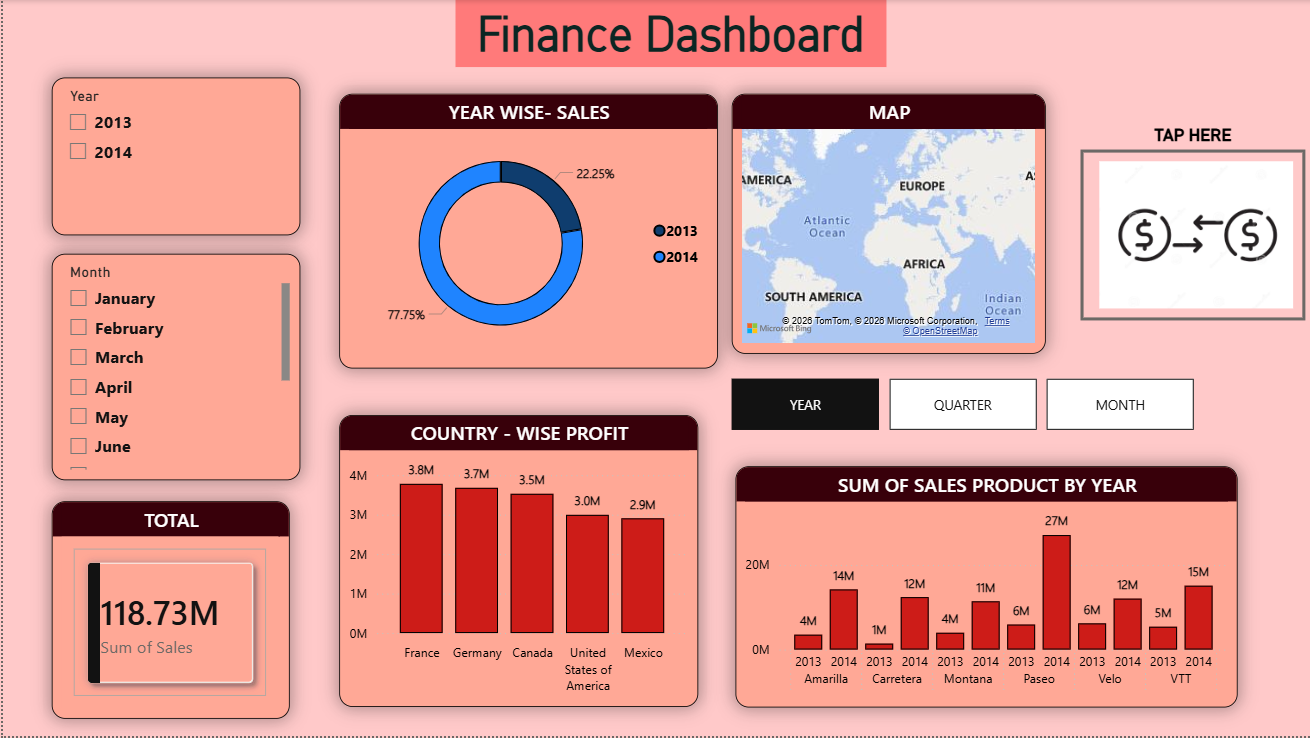

Layout of this report page (visuals, bound fields, positions):
{"tool":"powerbi","page":{"name":"Finance_dashboard","canvas":[1280,720],"ordinal":0},"visuals":[{"type":"textbox","box":[442.9,0,421.4,65.7],"z":0},{"type":"slicer","title":"COUNTRY - WISE PROFIT","fields":{"Values":["financials.Date.Variation.Date Hierarchy.Year"]},"box":[47.1,75.7,242.9,154.3],"z":1000},{"type":"slicer","title":"COUNTRY - WISE PROFIT","fields":{"Values":["financials.Date.Variation.Date Hierarchy.Month"]},"box":[47.1,248.6,242.9,221.4],"z":2000},{"type":"cardVisual","title":"TOTAL","fields":{"Data":["Sum(financials. Sales)"]},"box":[47.1,490,232.9,212.9],"z":3000},{"type":"clusteredColumnChart","title":"COUNTRY - WISE PROFIT","fields":{"Category":["financials.Country"],"Y":["Sum(financials.Profit)"]},"box":[328.6,405.7,351.4,285.7],"z":4000},{"type":"donutChart","title":"YEAR WISE- SALES","fields":{"Category":["financials.Date.Variation.Date Hierarchy.Year"],"Y":["Sum(financials. Sales)"]},"box":[328.6,91.4,370,268.6],"z":5000},{"type":"map","title":"MAP","fields":{"Size":["Sum(financials. Sales)"]},"box":[712.9,91.4,307.1,254.3],"z":6000},{"type":"clusteredColumnChart","title":"SUM OF SALES PRODUCT BY YEAR","fields":{"Y":["Sum(financials. Sales)"],"Category":["financials.Product","financials.Date.Variation.Date Hierarchy.Year"]},"box":[717.1,455.7,491.4,235.7],"z":7000},{"type":"bookmarkNavigator","box":[712.9,370,452.9,50],"z":10000},{"type":"actionButton","title":"TAP HERE ","box":[1054.3,122.9,220,191.4],"z":11000},{"type":"image","box":[1054.1,157.7,226.2,144.3],"z":12000}]}

Visuals, with their boxes in screenshot pixels (x1, y1, x2, y2), scaled from the page's 1280x720 canvas onto the 1310x738 screenshot:
textbox: bbox(453, 0, 885, 67)
"COUNTRY - WISE PROFIT" slicer: bbox(48, 78, 297, 236)
"COUNTRY - WISE PROFIT" slicer: bbox(48, 255, 297, 482)
"TOTAL" cardVisual: bbox(48, 502, 287, 720)
"COUNTRY - WISE PROFIT" clusteredColumnChart: bbox(336, 416, 696, 709)
"YEAR WISE- SALES" donutChart: bbox(336, 94, 715, 369)
"MAP" map: bbox(730, 94, 1044, 354)
"SUM OF SALES PRODUCT BY YEAR" clusteredColumnChart: bbox(734, 467, 1237, 709)
bookmarkNavigator: bbox(730, 379, 1193, 430)
"TAP HERE " actionButton: bbox(1079, 126, 1304, 322)
image: bbox(1079, 162, 1309, 310)
